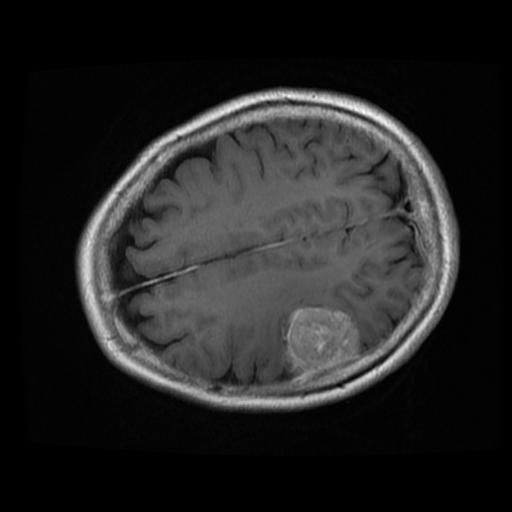meningioma: (283, 305, 359, 372)
